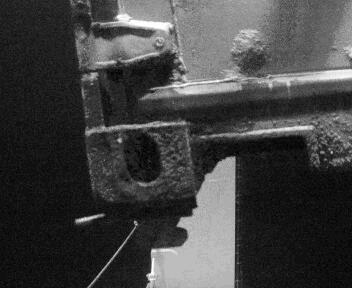twist_lock_1: (116, 168, 222, 233)
